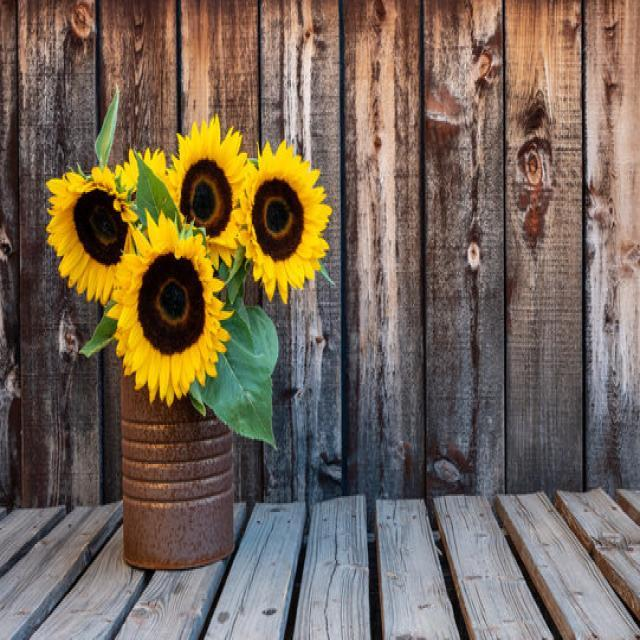sunflower: (104, 208, 233, 406), (234, 137, 331, 304), (44, 162, 138, 304), (164, 114, 248, 268), (114, 146, 168, 202)
